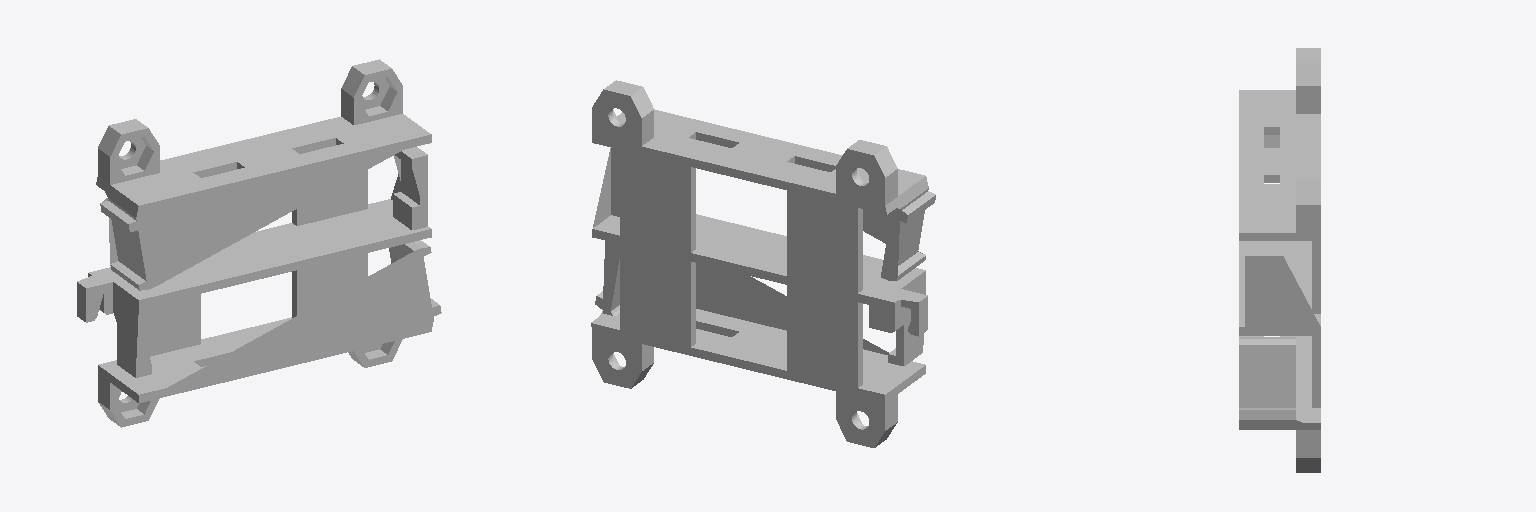
Rendered from RH_HolderV001R01.obj.
3 views of the same model, side by side, from view 1: azimuth 30°, elevation 25°; view 2: azimuth 150°, elevation 25°; view 3: azimuth 270°, elevation 25° (orthographic).
Visible parts, largest first — view 1: Mesh1 Group1 Model; view 2: Mesh1 Group1 Model; view 3: Mesh1 Group1 Model.
Boxes of the visible parts, x1=… form: Mesh1 Group1 Model: x1=77, y1=59, x2=441, y2=427; Mesh1 Group1 Model: x1=591, y1=80, x2=935, y2=447; Mesh1 Group1 Model: x1=1239, y1=48, x2=1320, y2=472.
Bounding box in the file's own units: 60.36 × 51.16 × 13.